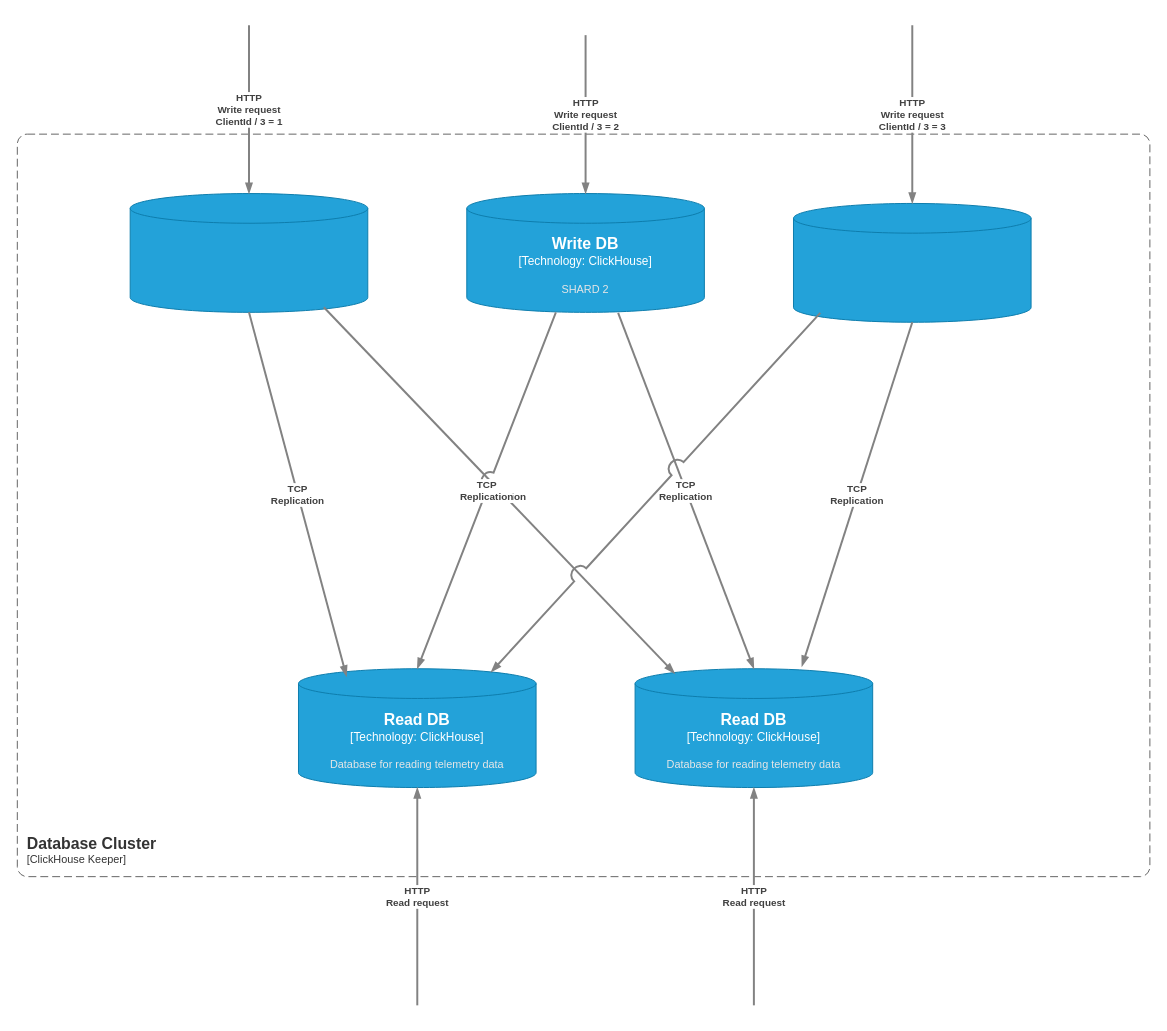
Image size: 1167x1031. Some labels were removed from this diagram. The shapes that lost their labels are listed below. From the top down, each one's centre as x and y in pixels, then its label:
the point at 248,252: Write DB [Technology: ClickHouse] SHARD 1
the point at 911,262: Write DB [Technology: ClickHouse] SHARD 3
